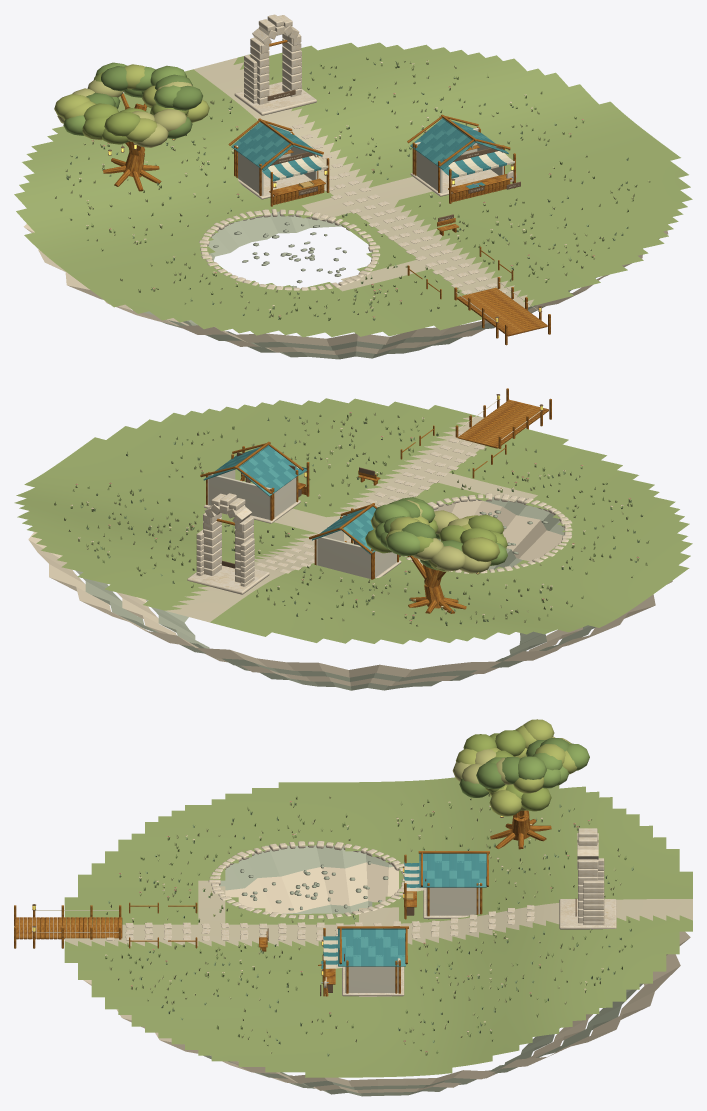
Rendered from harbor-v2.glb.
3 views of the same model, one above another, from view 1: azimuth 30°, elevation 25°; view 2: azimuth 150°, elevation 25°; view 3: azimuth 270°, elevation 25° (orthographic). The views are drawn at different scales.
Visible parts, largest first — view 1: Landscape, Great lantern tree, Bram’s Forge, Mallow’s Catch & Tackle, Wind Bell Tower, Meadow and flowers, Dock and harbor furniture; view 2: Landscape, Great lantern tree, Bram’s Forge, Wind Bell Tower, Meadow and flowers, Mallow’s Catch & Tackle, Dock and harbor furniture; view 3: Landscape, Great lantern tree, Bram’s Forge, Mallow’s Catch & Tackle, Meadow and flowers, Wind Bell Tower, Dock and harbor furniture.
Part boxes in pixels (x1=…): Landscape: x1=14, y1=42, x2=692, y2=359; Great lantern tree: x1=54, y1=62, x2=209, y2=191; Bram’s Forge: x1=407, y1=114, x2=515, y2=203; Mallow’s Catch & Tackle: x1=228, y1=118, x2=329, y2=206; Wind Bell Tower: x1=234, y1=14, x2=316, y2=115; Meadow and flowers: x1=55, y1=57, x2=650, y2=320; Dock and harbor furniture: x1=407, y1=214, x2=550, y2=345; Landscape: x1=14, y1=398, x2=692, y2=690; Great lantern tree: x1=365, y1=497, x2=507, y2=613; Bram’s Forge: x1=200, y1=441, x2=309, y2=523; Wind Bell Tower: x1=187, y1=493, x2=269, y2=594; Meadow and flowers: x1=54, y1=412, x2=649, y2=626; Mallow’s Catch & Tackle: x1=309, y1=503, x2=409, y2=579; Dock and harbor furniture: x1=358, y1=388, x2=551, y2=485; Landscape: x1=64, y1=777, x2=692, y2=1096; Great lantern tree: x1=452, y1=719, x2=589, y2=849; Bram’s Forge: x1=321, y1=926, x2=408, y2=996; Mallow’s Catch & Tackle: x1=402, y1=851, x2=489, y2=919; Meadow and flowers: x1=105, y1=793, x2=633, y2=1056; Wind Bell Tower: x1=559, y1=828, x2=616, y2=929; Dock and harbor furniture: x1=14, y1=902, x2=268, y2=951.
Bounding box in the file's own units: 73.66 × 23.71 × 71.12.
25 materials, 3 textured.
